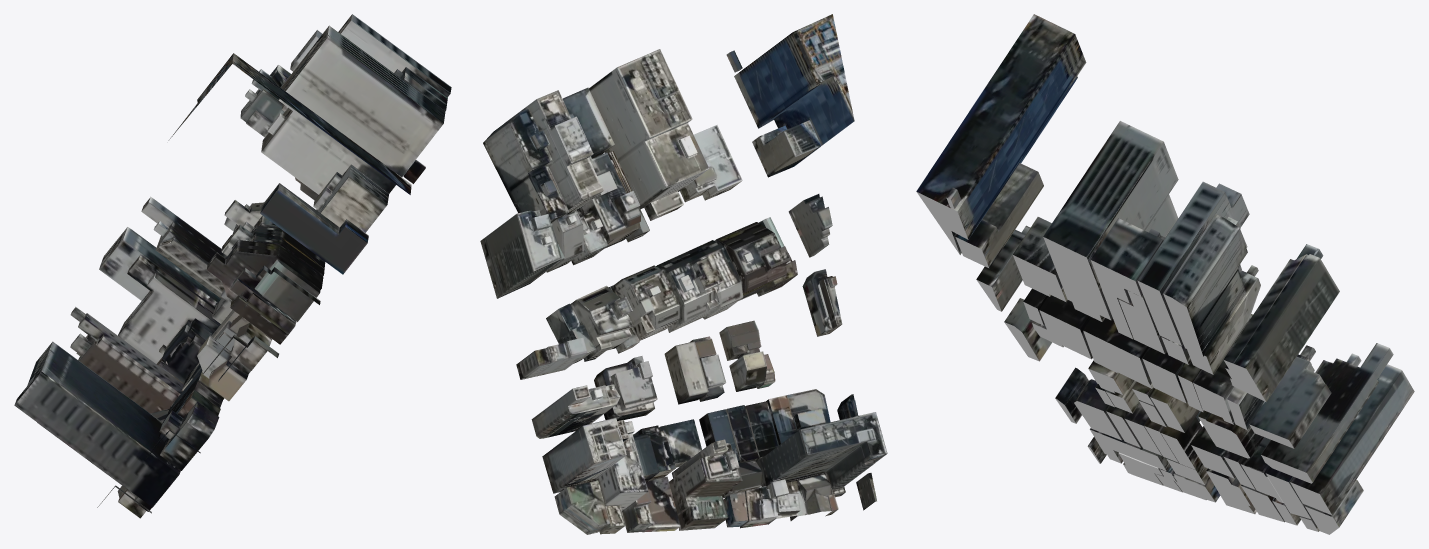
Rendered from 39533_bldg_Building.glb.
3 views of the same model, side by side, from view 1: azimuth 30°, elevation 25°; view 2: azimuth 150°, elevation 25°; view 3: azimuth 270°, elevation 25° (orthographic). The views are drawn at different scales.
Bounding box in the file's own units: 109 × 116 × 109.
3 materials, 2 textured.
